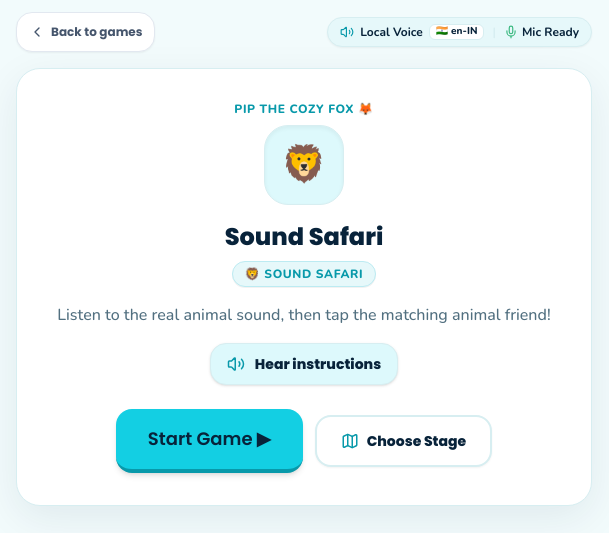
Test: Existing Games Uplift Suite: Sound Safari, Speak & Shine, Phonics Arcade, Read With Me › 3. GamePlay renders Toy World container, VoiceModeIndicator, and >= 48px touch targets
Check: the element with test id "voice-mode-indicator" is shown, box top-left (327, 17), bottom-right (592, 47)
Step 1. Click the button "Start Game ▶" → [209, 441], box top-left (116, 409), bottom-right (303, 473)
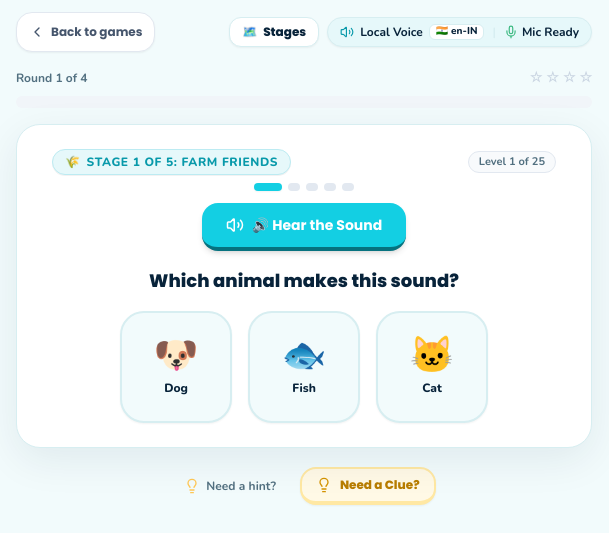
Check: the button with test id "hear-sound-btn" is shown, box top-left (202, 203), bottom-right (406, 251)
